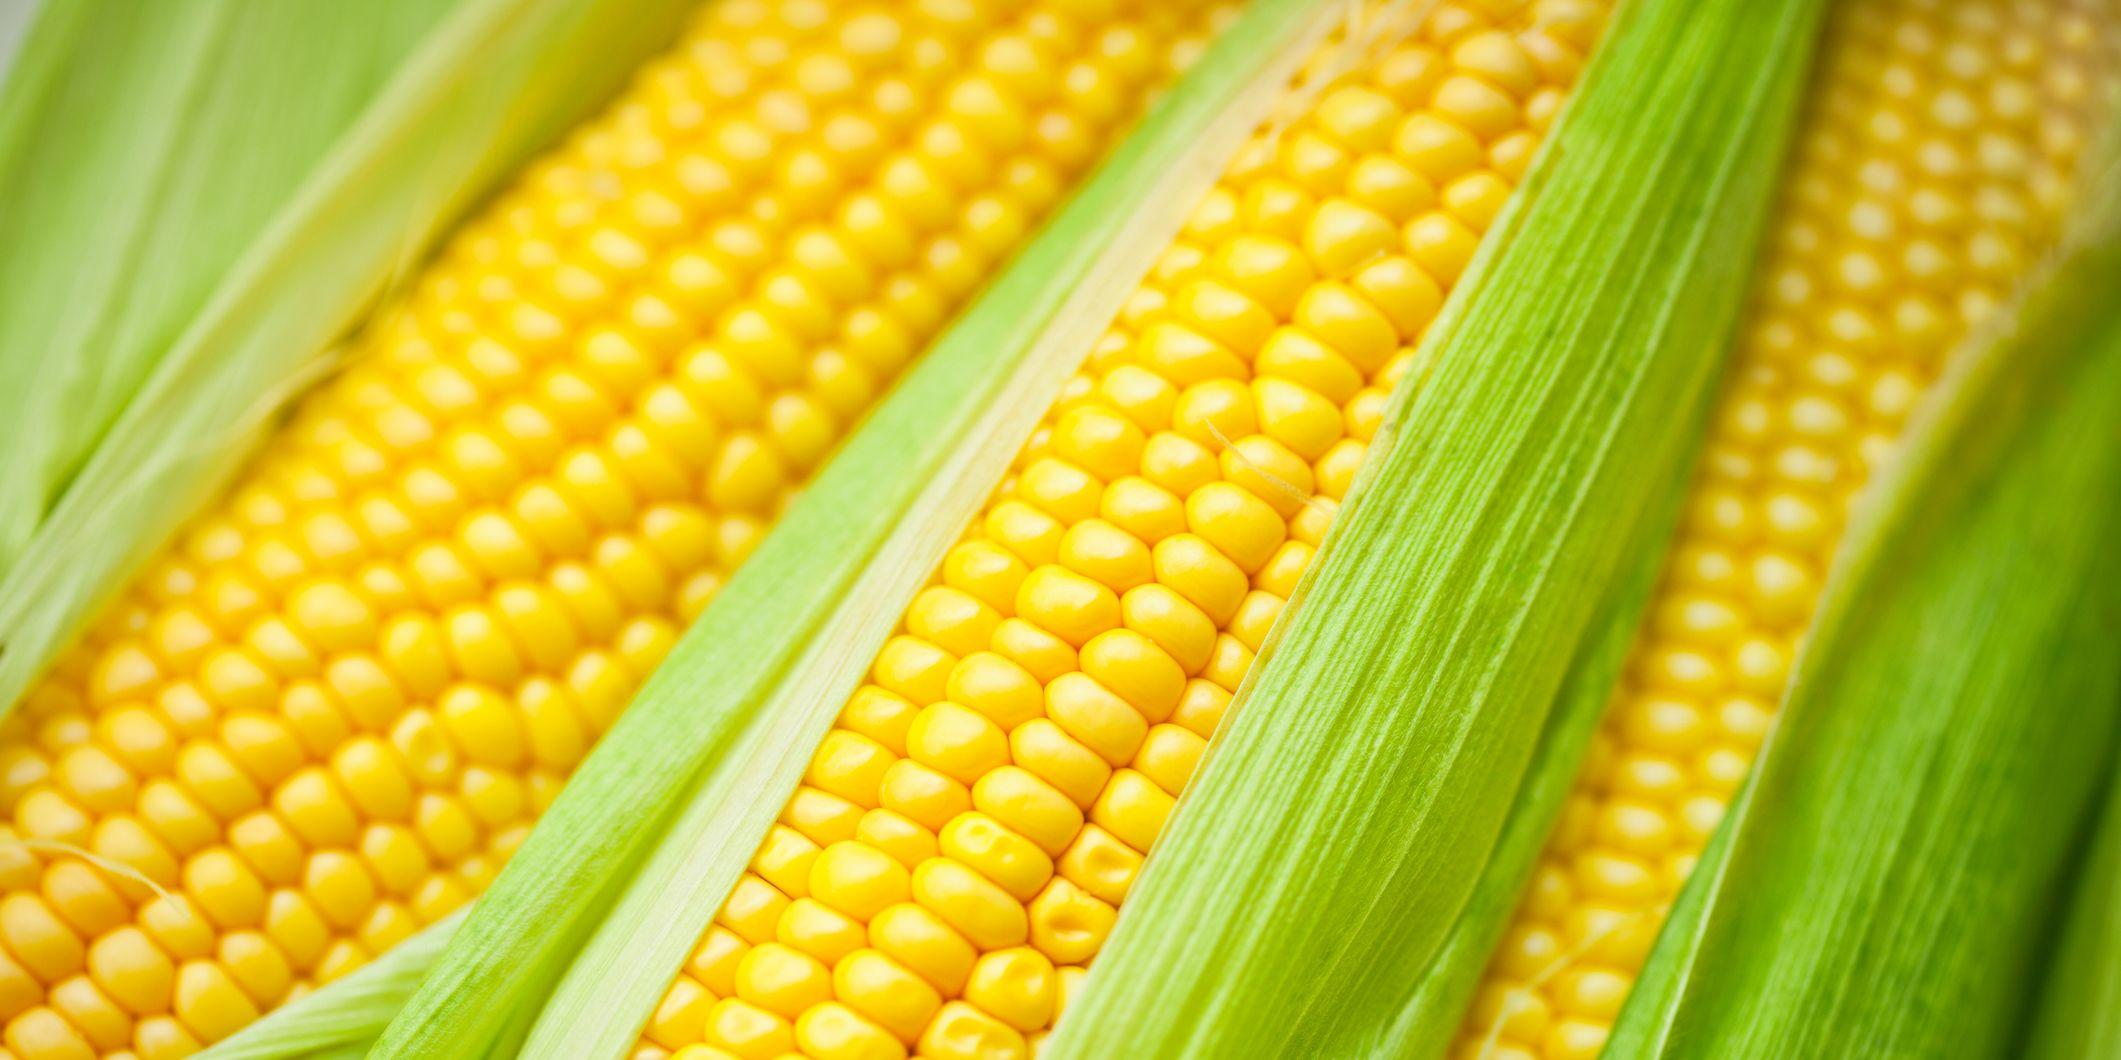corn: (5, 1, 2114, 1057), (1035, 0, 1830, 1057), (1447, 0, 2118, 1056)
